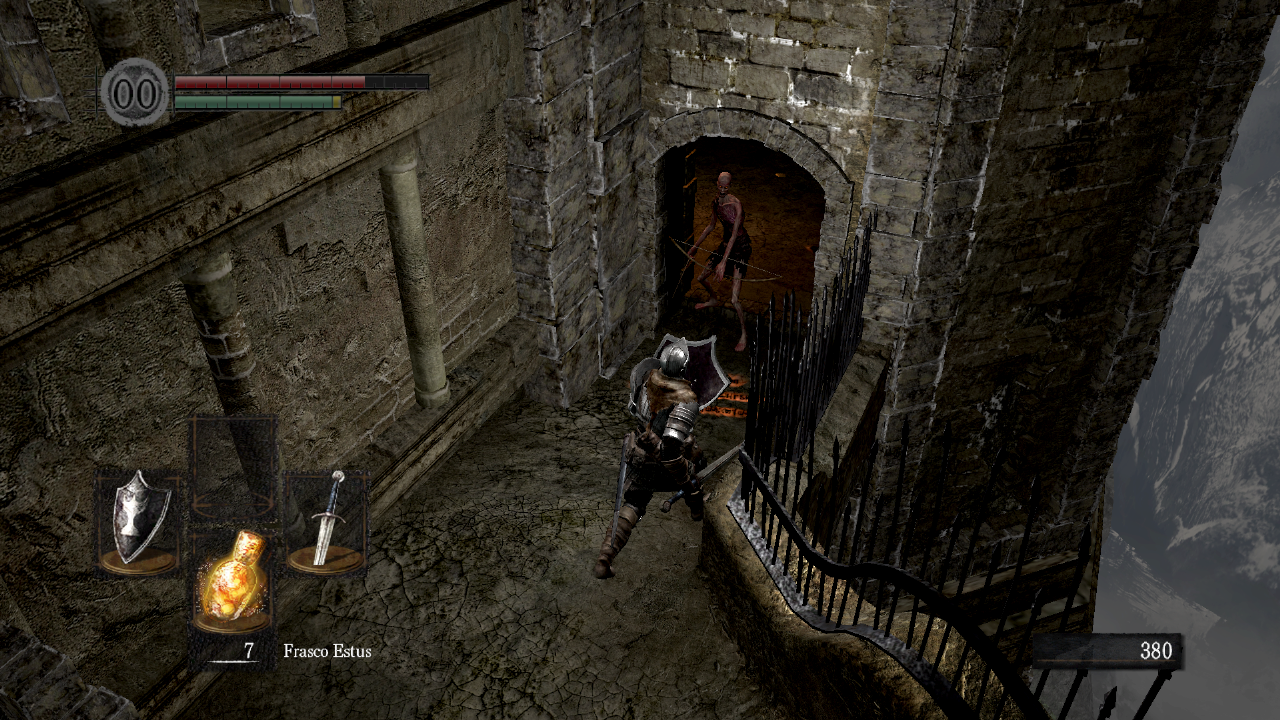hollow: (670, 171, 783, 352)
player: (592, 333, 744, 578)
